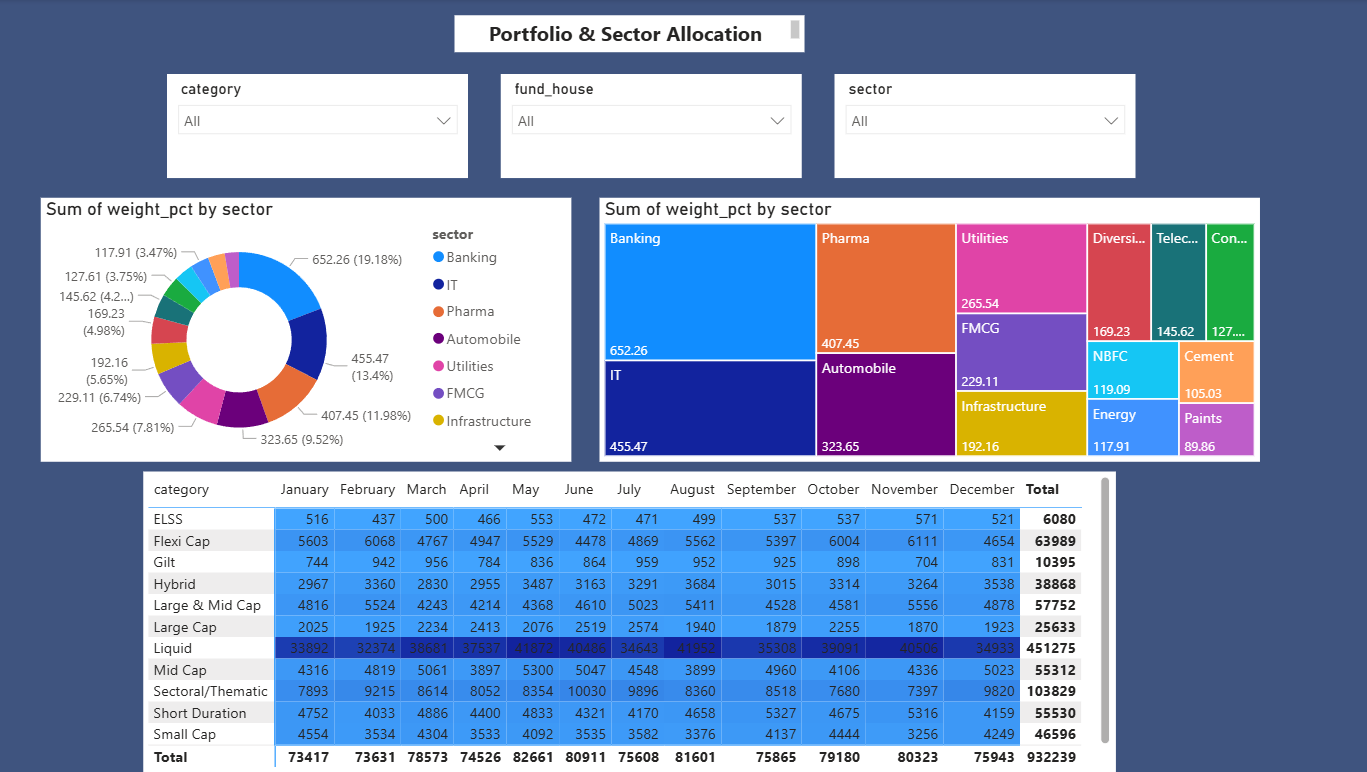

The page's visual inventory and layout, read from the dashboard file:
{"tool":"powerbi","page":{"name":"Page 4","canvas":[1280,720],"ordinal":3},"visuals":[{"type":"donutChart","fields":{"Category":["09_portfolio_holdings.sector"],"Y":["Sum(09_portfolio_holdings.weight_pct)"]},"box":[41.1,184.4,493.3,245.6],"z":0},{"type":"treemap","fields":{"Group":["09_portfolio_holdings.sector"],"Values":["Sum(09_portfolio_holdings.weight_pct)"]},"box":[560,184.4,614.4,245.6],"z":1000},{"type":"slicer","fields":{"Values":["01_fund_master.fund_house"]},"box":[468.9,70,280,96.7],"z":2000},{"type":"slicer","fields":{"Values":["01_fund_master.category"]},"box":[157.8,70,280,96.7],"z":3000},{"type":"slicer","fields":{"Values":["09_portfolio_holdings.sector"]},"box":[778.9,70,280,96.7],"z":4000},{"type":"pivotTable","fields":{"Rows":["05_category_inflows.category"],"Values":["Sum(05_category_inflows.net_inflow_crore)"],"Columns":["05_category_inflows.month.Variation.Date Hierarchy.Month"]},"box":[135.6,440,904.4,280],"z":5000},{"type":"textbox","box":[425.6,15.6,325.6,34.4],"z":6000}]}

Visuals, with their boxes in screenshot pixels (x1, y1, x2, y2), scaled from the page's 1280x720 canvas onto the 1367x772 screenshot:
donutChart - 09_portfolio_holdings.sector x Sum(09_portfolio_holdings.weight_pct): <region>44, 198, 571, 461</region>
treemap - 09_portfolio_holdings.sector x Sum(09_portfolio_holdings.weight_pct): <region>598, 198, 1254, 461</region>
slicer - 01_fund_master.fund_house: <region>501, 75, 800, 179</region>
slicer - 01_fund_master.category: <region>169, 75, 468, 179</region>
slicer - 09_portfolio_holdings.sector: <region>832, 75, 1131, 179</region>
pivotTable - 05_category_inflows.category x Sum(05_category_inflows.net_inflow_crore): <region>145, 472, 1111, 771</region>
textbox: <region>455, 17, 802, 54</region>
